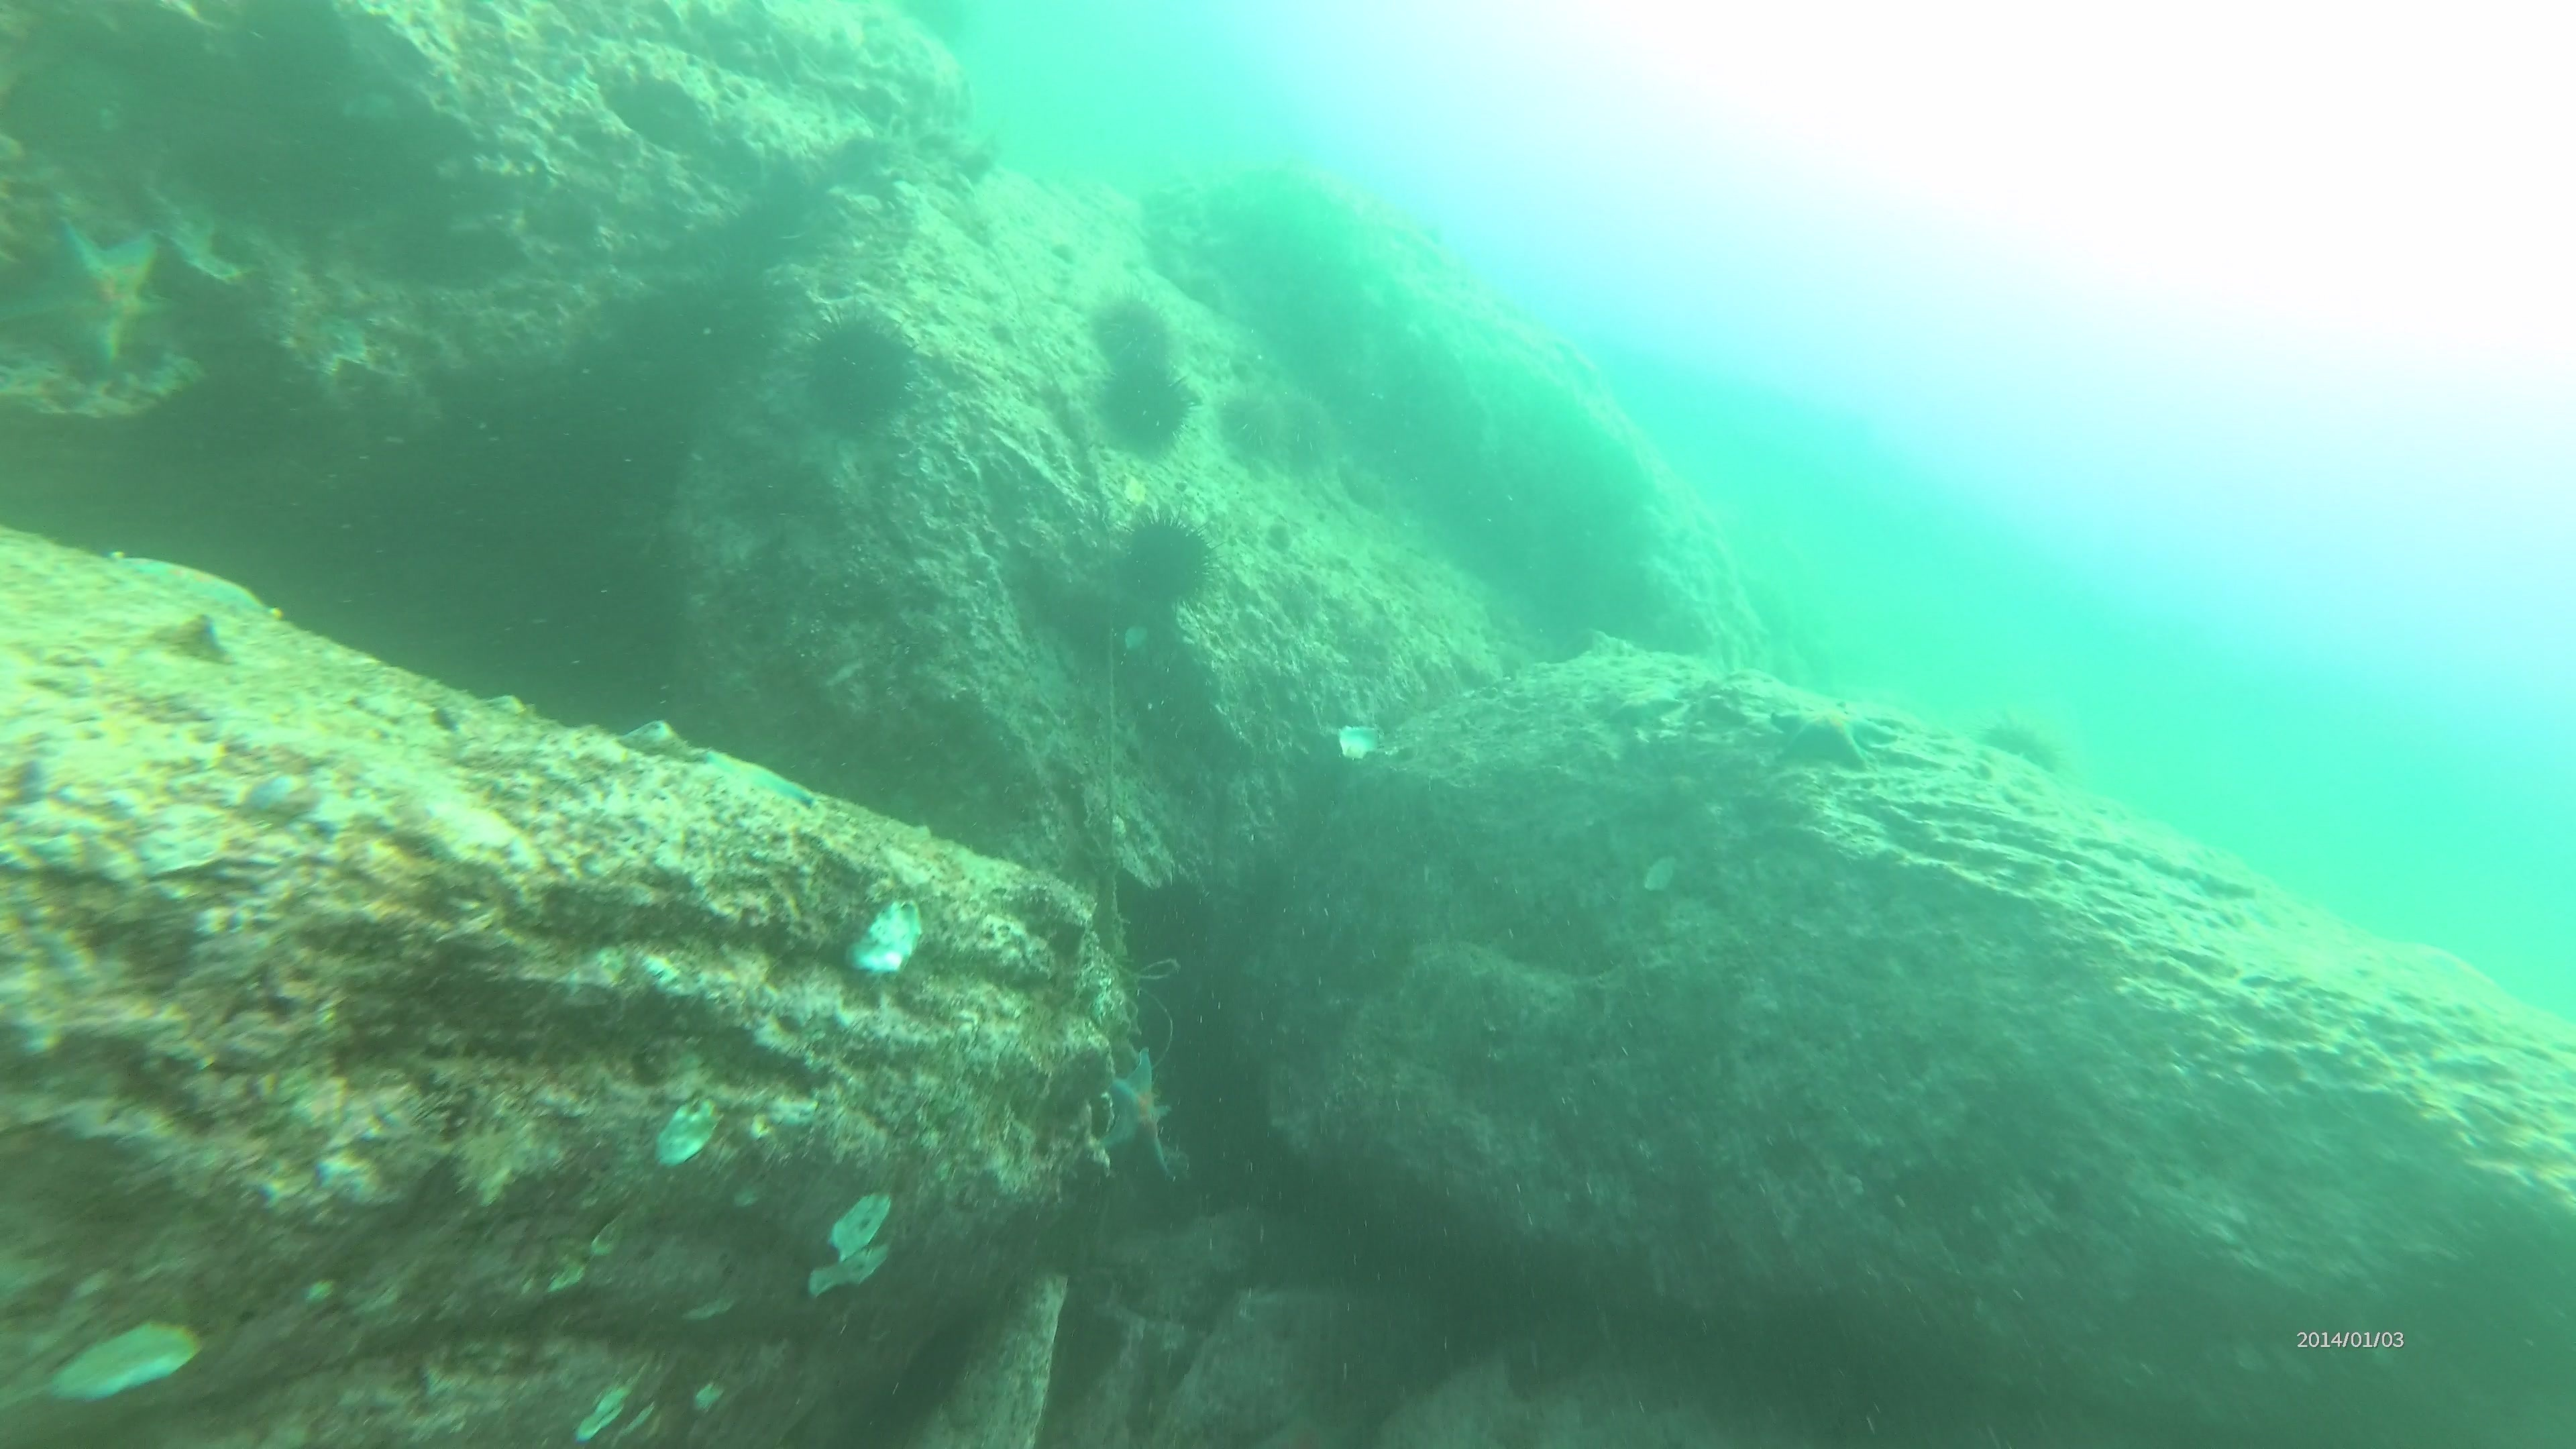echinus: (787, 303, 924, 442), (1106, 504, 1223, 621), (1093, 357, 1196, 462), (1081, 287, 1182, 387), (1974, 709, 2068, 778), (1212, 382, 1284, 455), (1283, 391, 1332, 465)
starfish: (4, 209, 184, 393), (106, 538, 274, 628), (1086, 1039, 1185, 1189), (1757, 678, 1905, 777)
